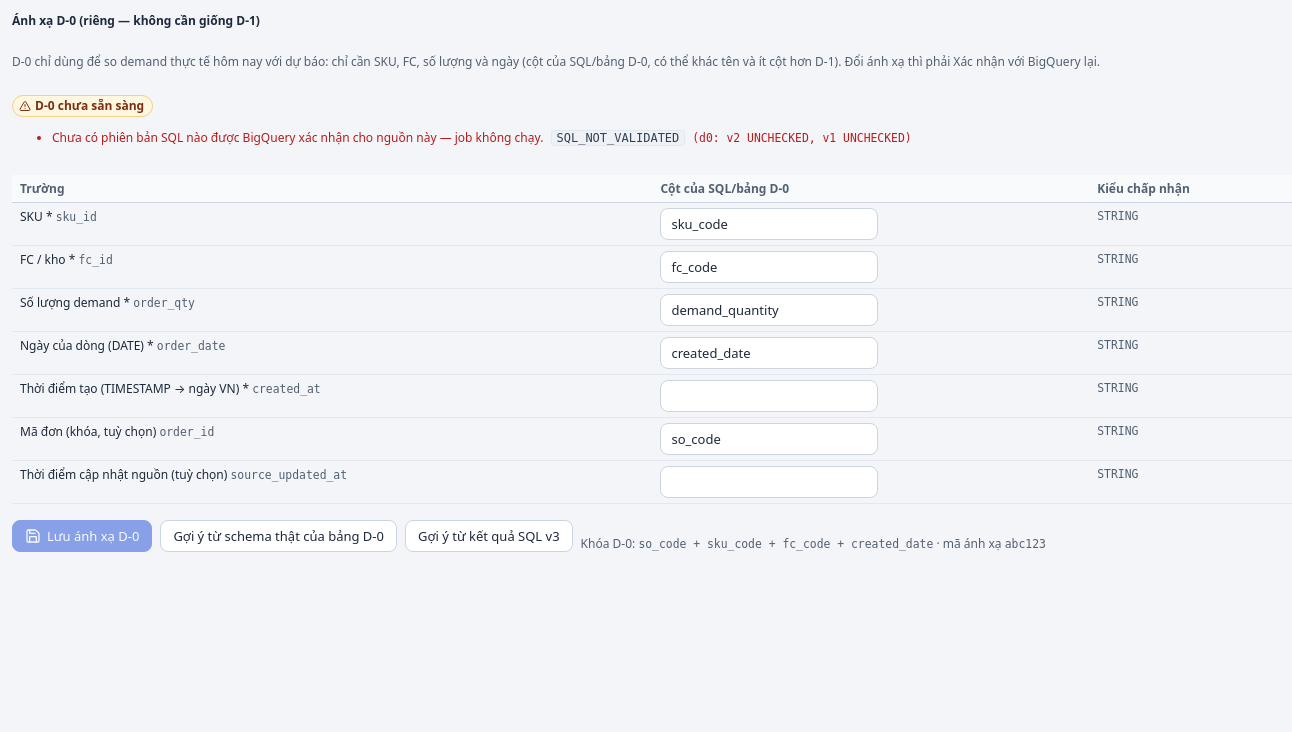
Test case: v1.2.1 D-0 mapping › shows the precise reason, saves only the D-0 mapping and fills a suggestion from the real schema
The image size is (1292, 732).
Expected: the button with test id "d0m-save" is disabled, [12,520,152,552]
Replace the text in the field named "d0-col-fc_id" with "kho" at (769, 267), box [660,251,878,283]
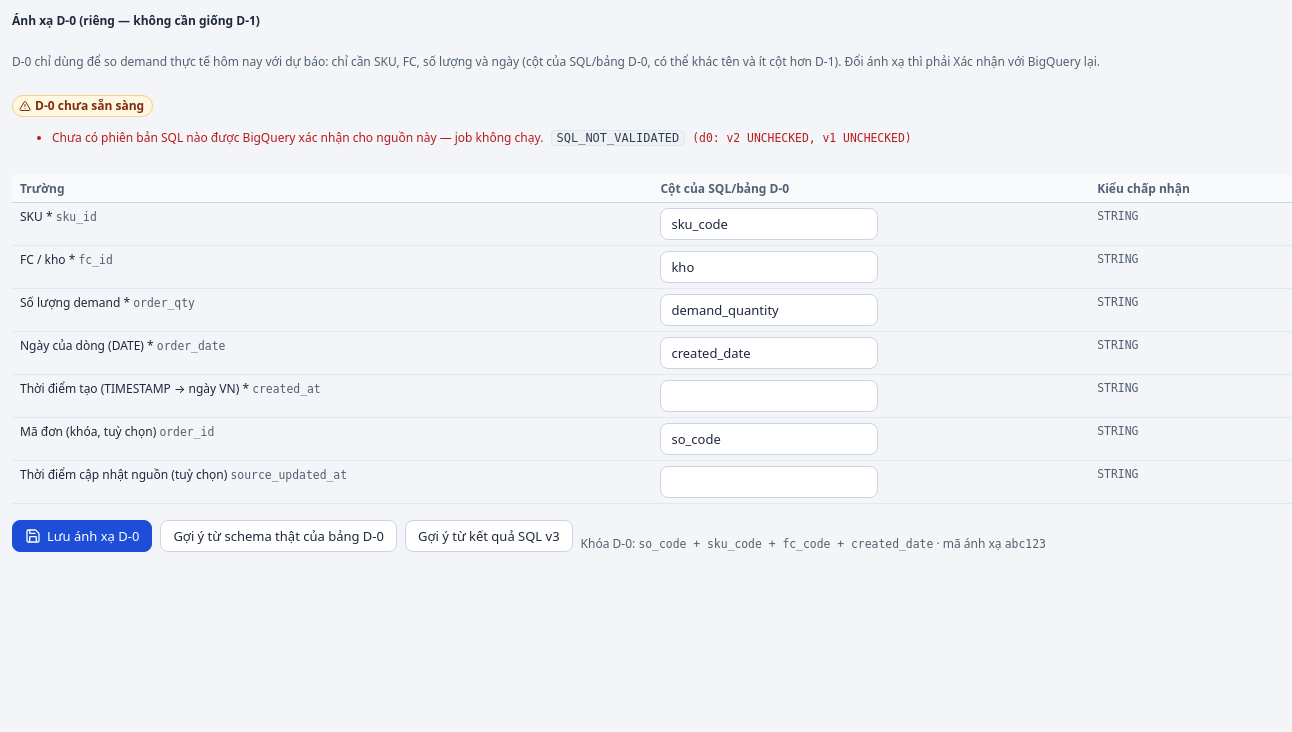
Click the button with test id "d0m-save" at (82, 536), box [12,520,152,552]
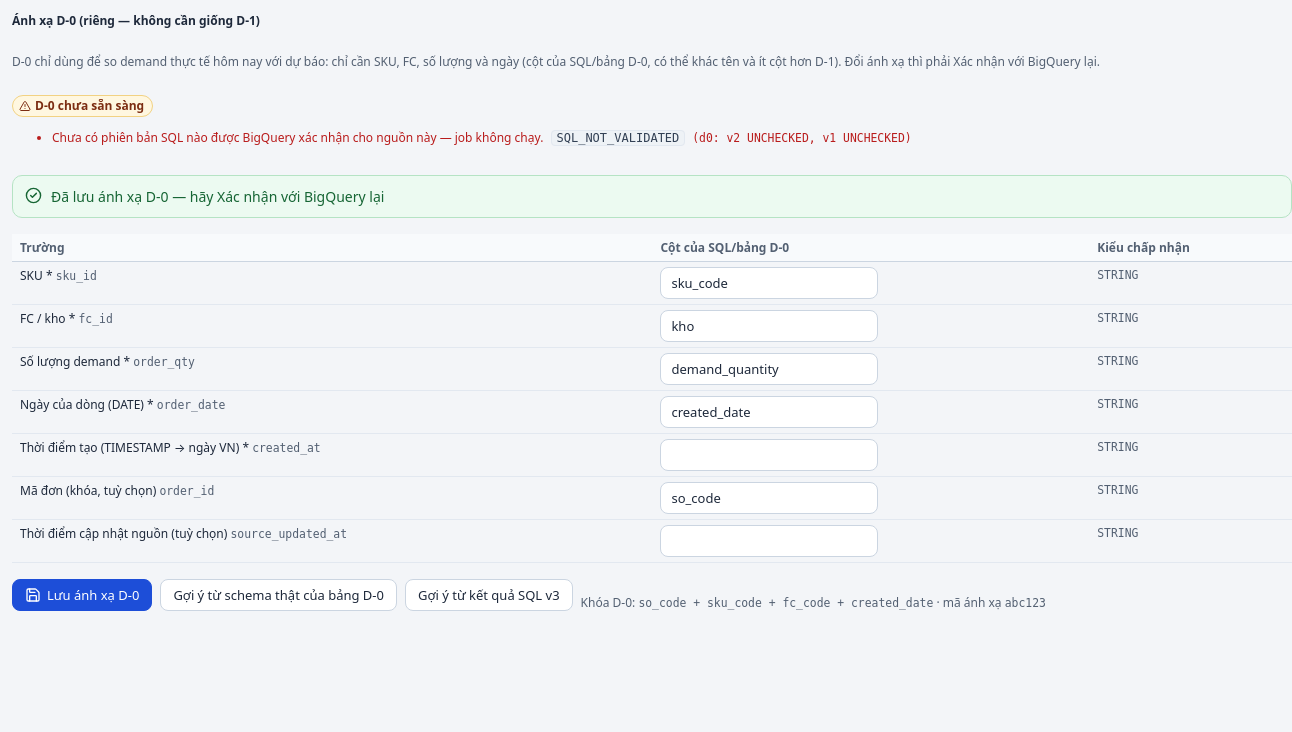
Click the button with test id "d0m-suggest-table" at (279, 595), box [160,579,397,611]
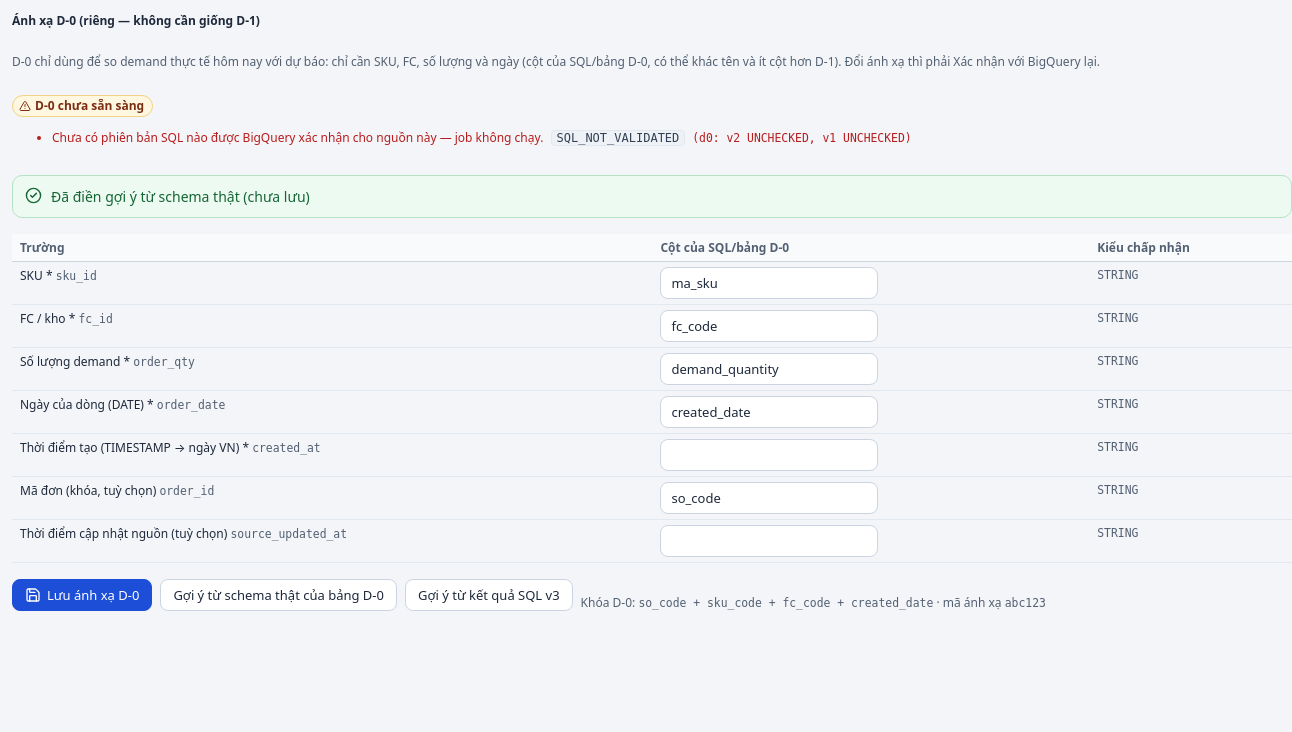
Result: the field named "d0-col-sku_id" holds "ma_sku" at [660,267,878,299]
